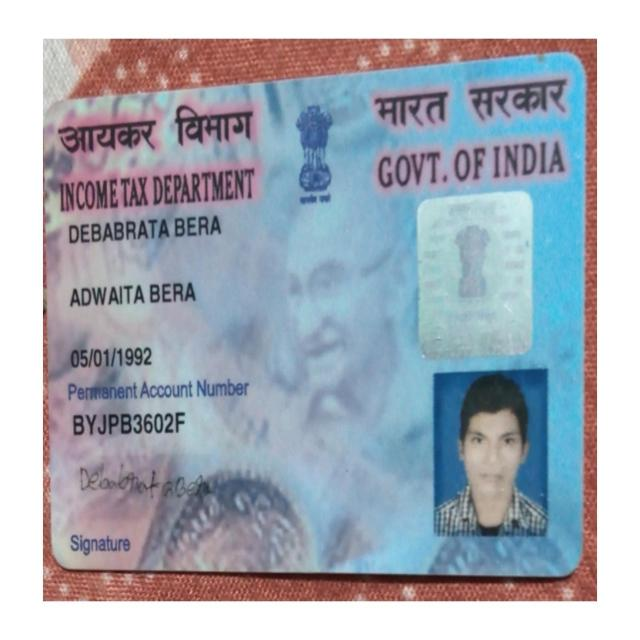pan_card: (43, 61, 579, 574)
